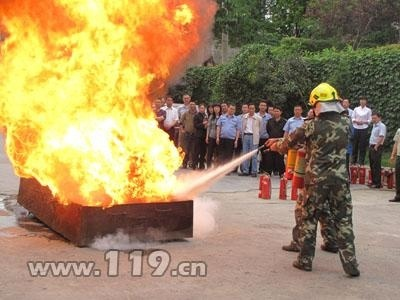fire: (0, 0, 195, 213)
